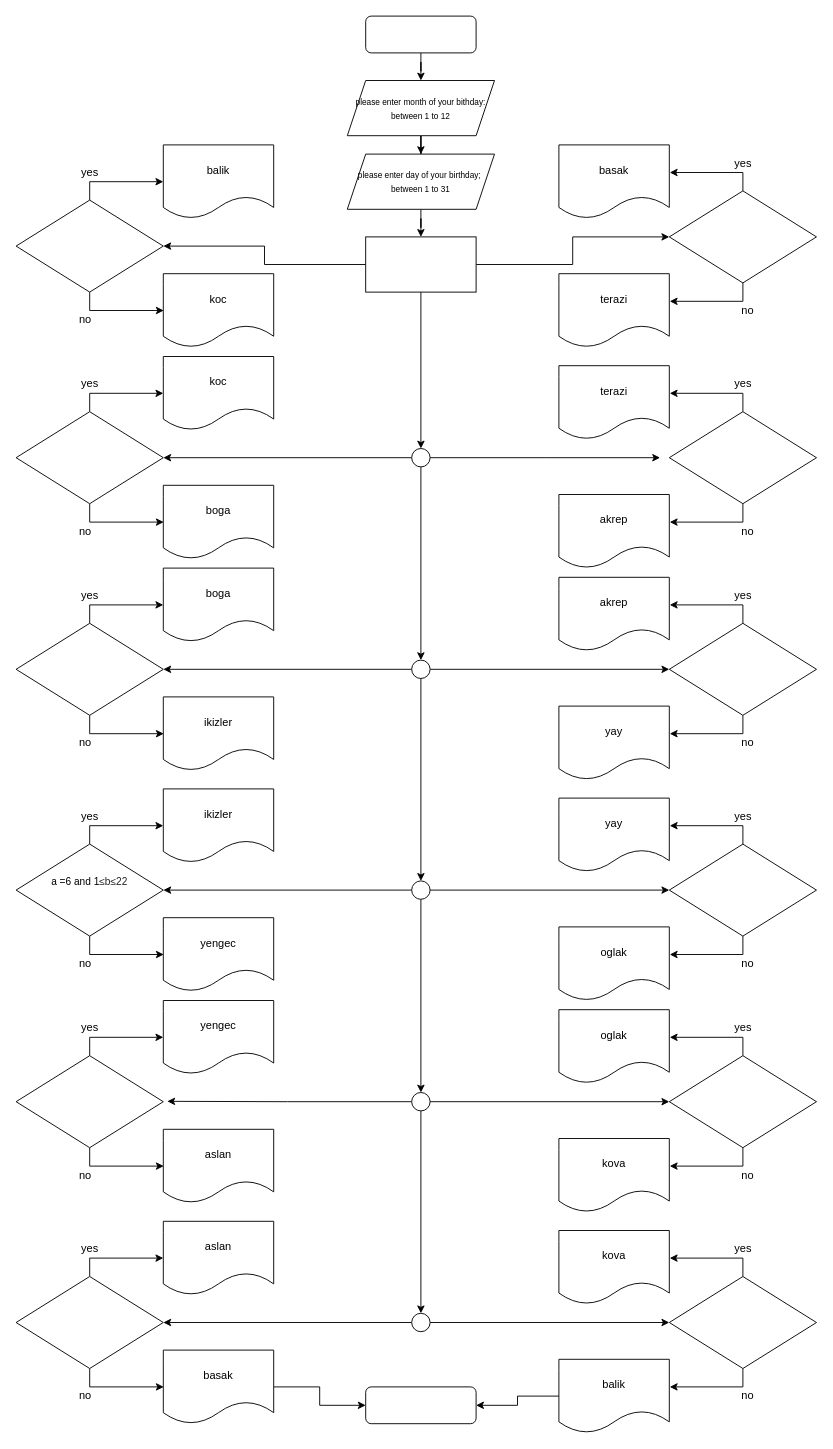
The diagram is 833 pixels wide and 1449 high, and some of its shapes have lost their labels. The centre of each missing label's shape, as x and y in pixels:
"a =1 and 1 ≤b ≤21" belongs at pixel 742 1101.
"a =10 and 1 ≤b ≤22" belongs at pixel 742 457.
"a =11 and 1 ≤b ≤21" belongs at pixel 742 668.
"a =12 and 1 ≤b ≤21" belongs at pixel 742 889.
"a =2 and 1 ≤b ≤19" belongs at pixel 742 1322.
"a =3 and 1 ≤b ≤20" belongs at pixel 89 245.
"a =4 and 1 ≤b ≤20" belongs at pixel 89 457.
"a =5 and 1 ≤b ≤21" belongs at pixel 89 668.
"a =7 and 1 ≤b ≤22" belongs at pixel 89 1101.
"a =8 and 1 ≤b ≤22" belongs at pixel 89 1322.
"a =9 and 1 ≤b ≤22" belongs at pixel 742 236.
"END" belongs at pixel 420 1405.
"month = a day = b" belongs at pixel 420 264.
"START" belongs at pixel 420 34.
